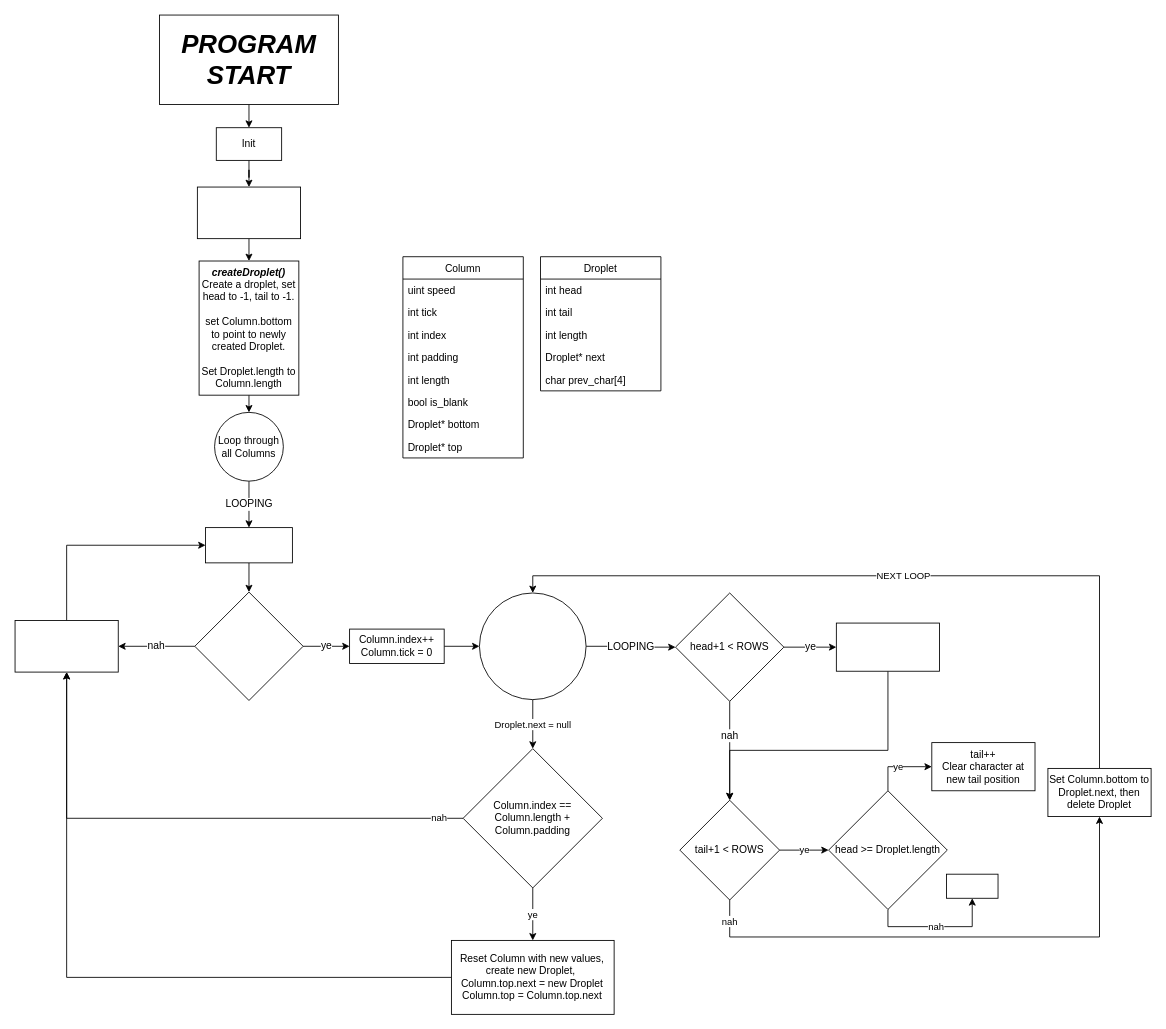
The diagram is 1166 pixels wide and 1029 high, and some of its shapes have lost their labels. The centre of each missing label's shape, as x and y in pixels:
"Column.tick++" goes at point (248, 545).
"continue" goes at point (972, 885).
"head++ Draw character at new head position" goes at point (887, 646).
"Is tick == speed?" goes at point (248, 645).
"setColumn() Set column struct values, speed, padding, length, etc." goes at point (249, 212).
"Skip to next column" goes at point (66, 646).
"Traverse through Droplets of Column (starting with Column.bottom)" goes at point (532, 646).
